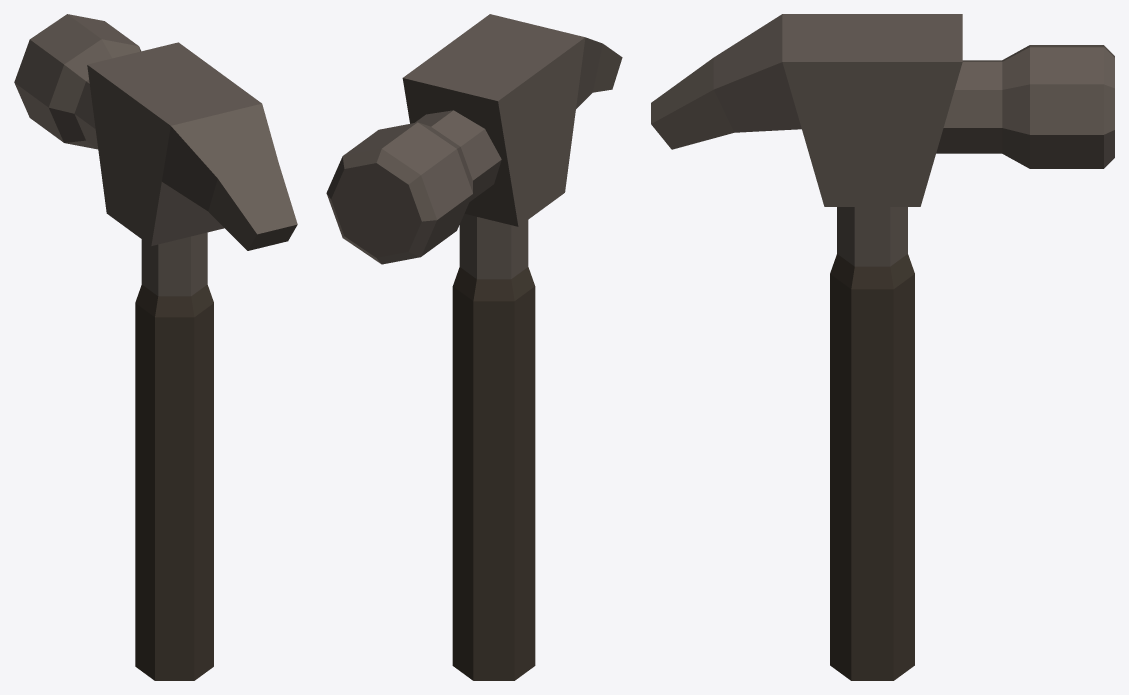
File: hammer.fbx
3 renders of one model, left to right at view 1: azimuth 30°, elevation 25°; view 2: azimuth 150°, elevation 25°; view 3: azimuth 270°, elevation 25°, orthographic. The views are drawn at different scales.
Parts seen in each view (by area): view 1: hammer'; view 2: hammer'; view 3: hammer'.
Part boxes in pixels (<box>): hammer': <box>14,14,297,680</box>; hammer': <box>326,14,622,680</box>; hammer': <box>651,14,1114,680</box>.
Bounding box in the file's own units: 35.47 × 186 × 125.
